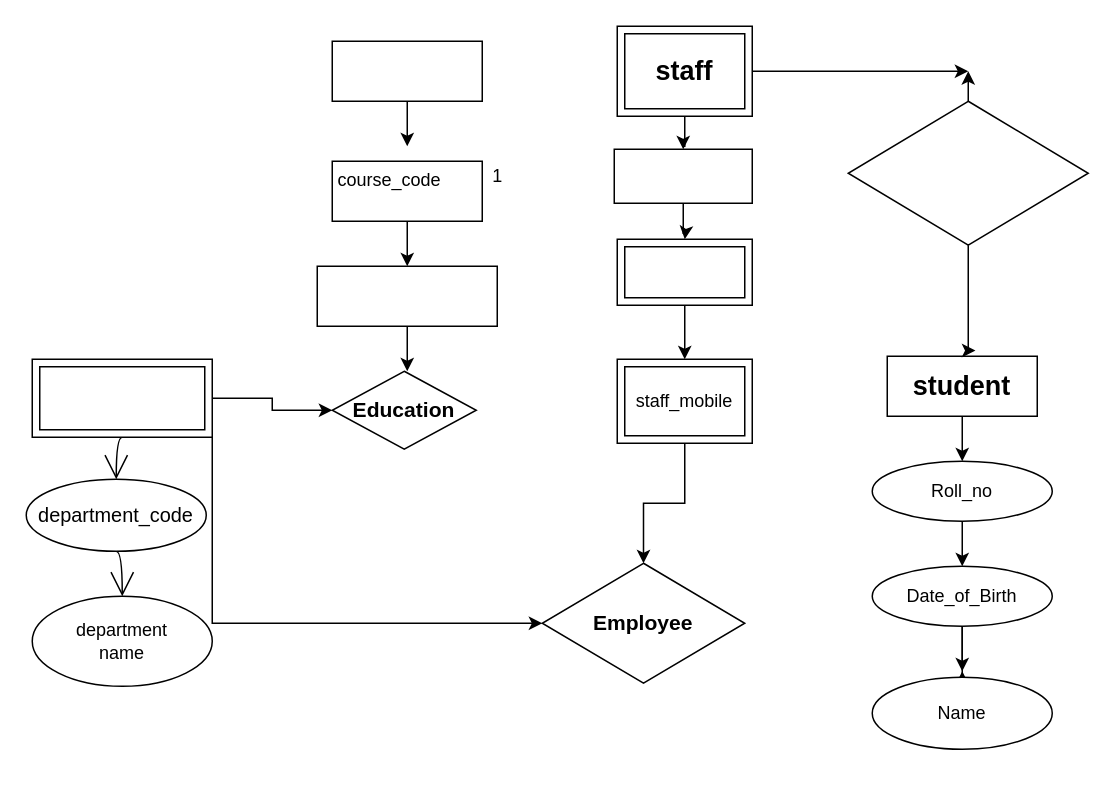
Some shapes in this 1115 by 788 pixel diagram are drawn without their labels. The centre of each missing label's shape, as x and y in pixels:
"course" belongs at point 406,70.
"department" belongs at point 121,397.
"duration" belongs at point 406,295.
"staff_code" belongs at point 682,175.
"staff_name" belongs at point 684,271.
"Teach" belongs at point 967,172.
